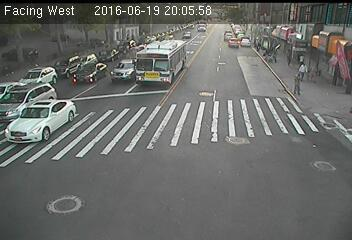neg: (41, 85, 63, 113), (263, 110, 282, 134), (94, 66, 110, 88), (243, 69, 258, 90), (122, 28, 136, 46), (113, 134, 126, 153), (164, 87, 177, 105), (211, 81, 224, 99), (229, 127, 242, 144), (182, 125, 193, 141), (165, 13, 176, 28), (275, 177, 285, 190), (208, 10, 217, 22), (238, 40, 245, 49)
pos: (288, 71, 306, 95), (295, 58, 310, 77)
